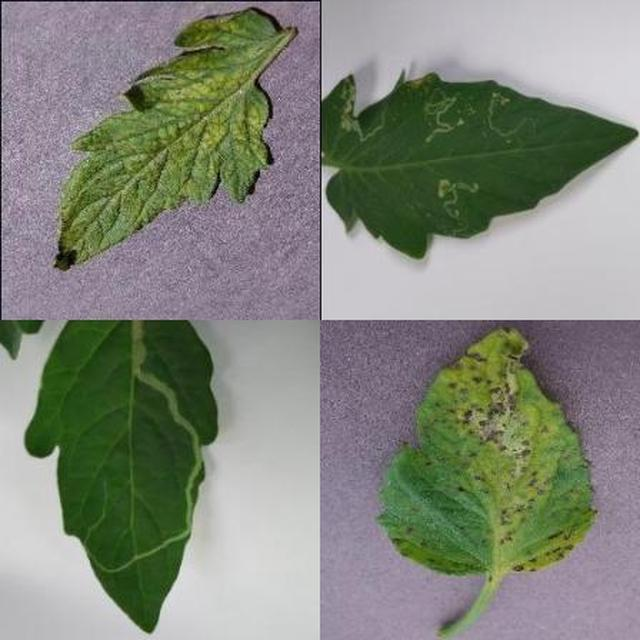Mosaic Virus Leaf: (173, 200, 640, 640)
